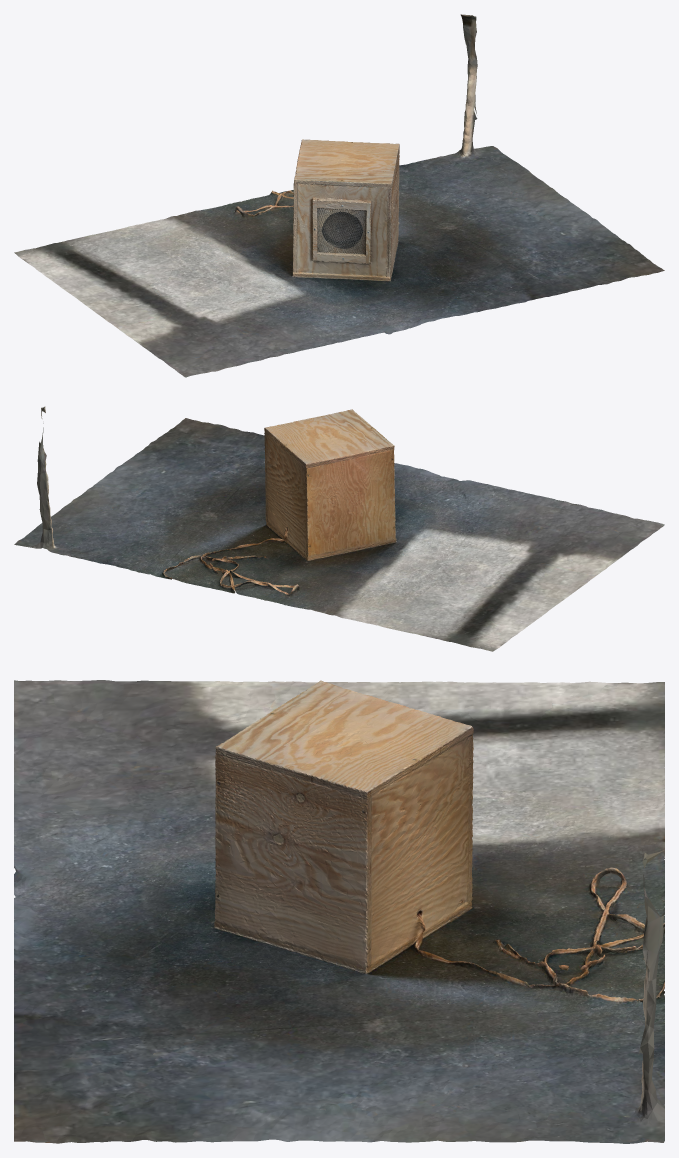
The model's file is speaker-module.glb.
The picture shows the model from 3 angles, top to bottom: view 1: azimuth 30°, elevation 25°; view 2: azimuth 150°, elevation 25°; view 3: azimuth 270°, elevation 25°; orthographic projection. The views are drawn at different scales.
Size of the model in its own units: 4.14 by 1.17 by 2.57.
1 material, 1 textured.
